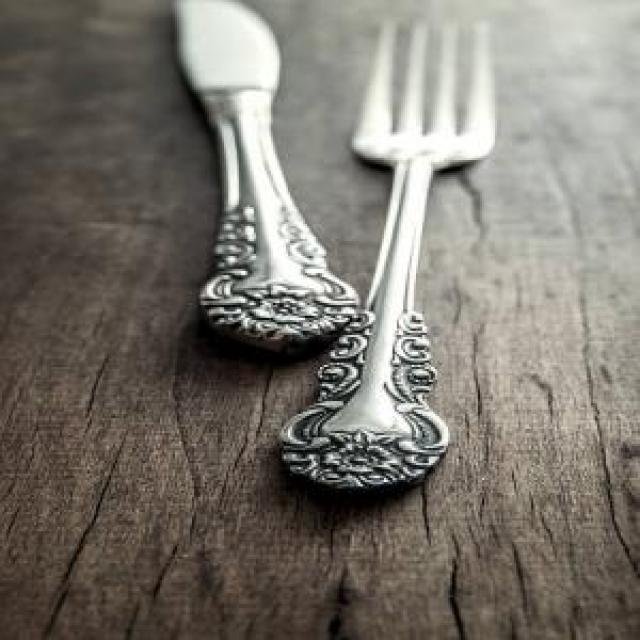knife: (175, 0, 365, 369)
